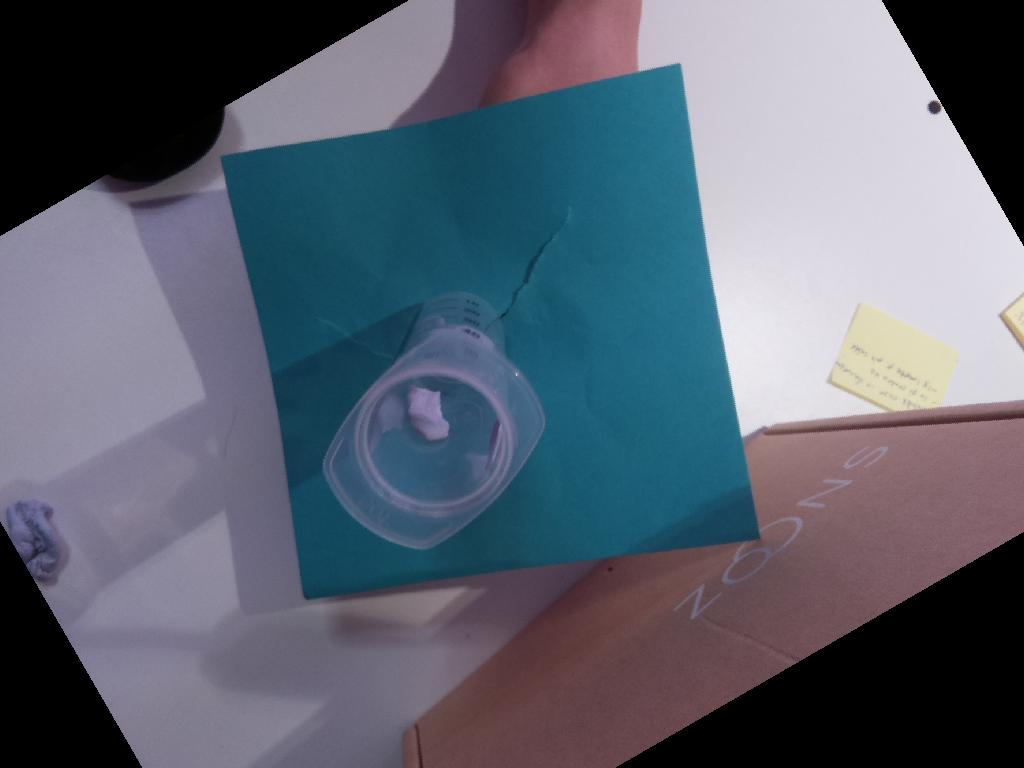dirty: (323, 332, 544, 550)
